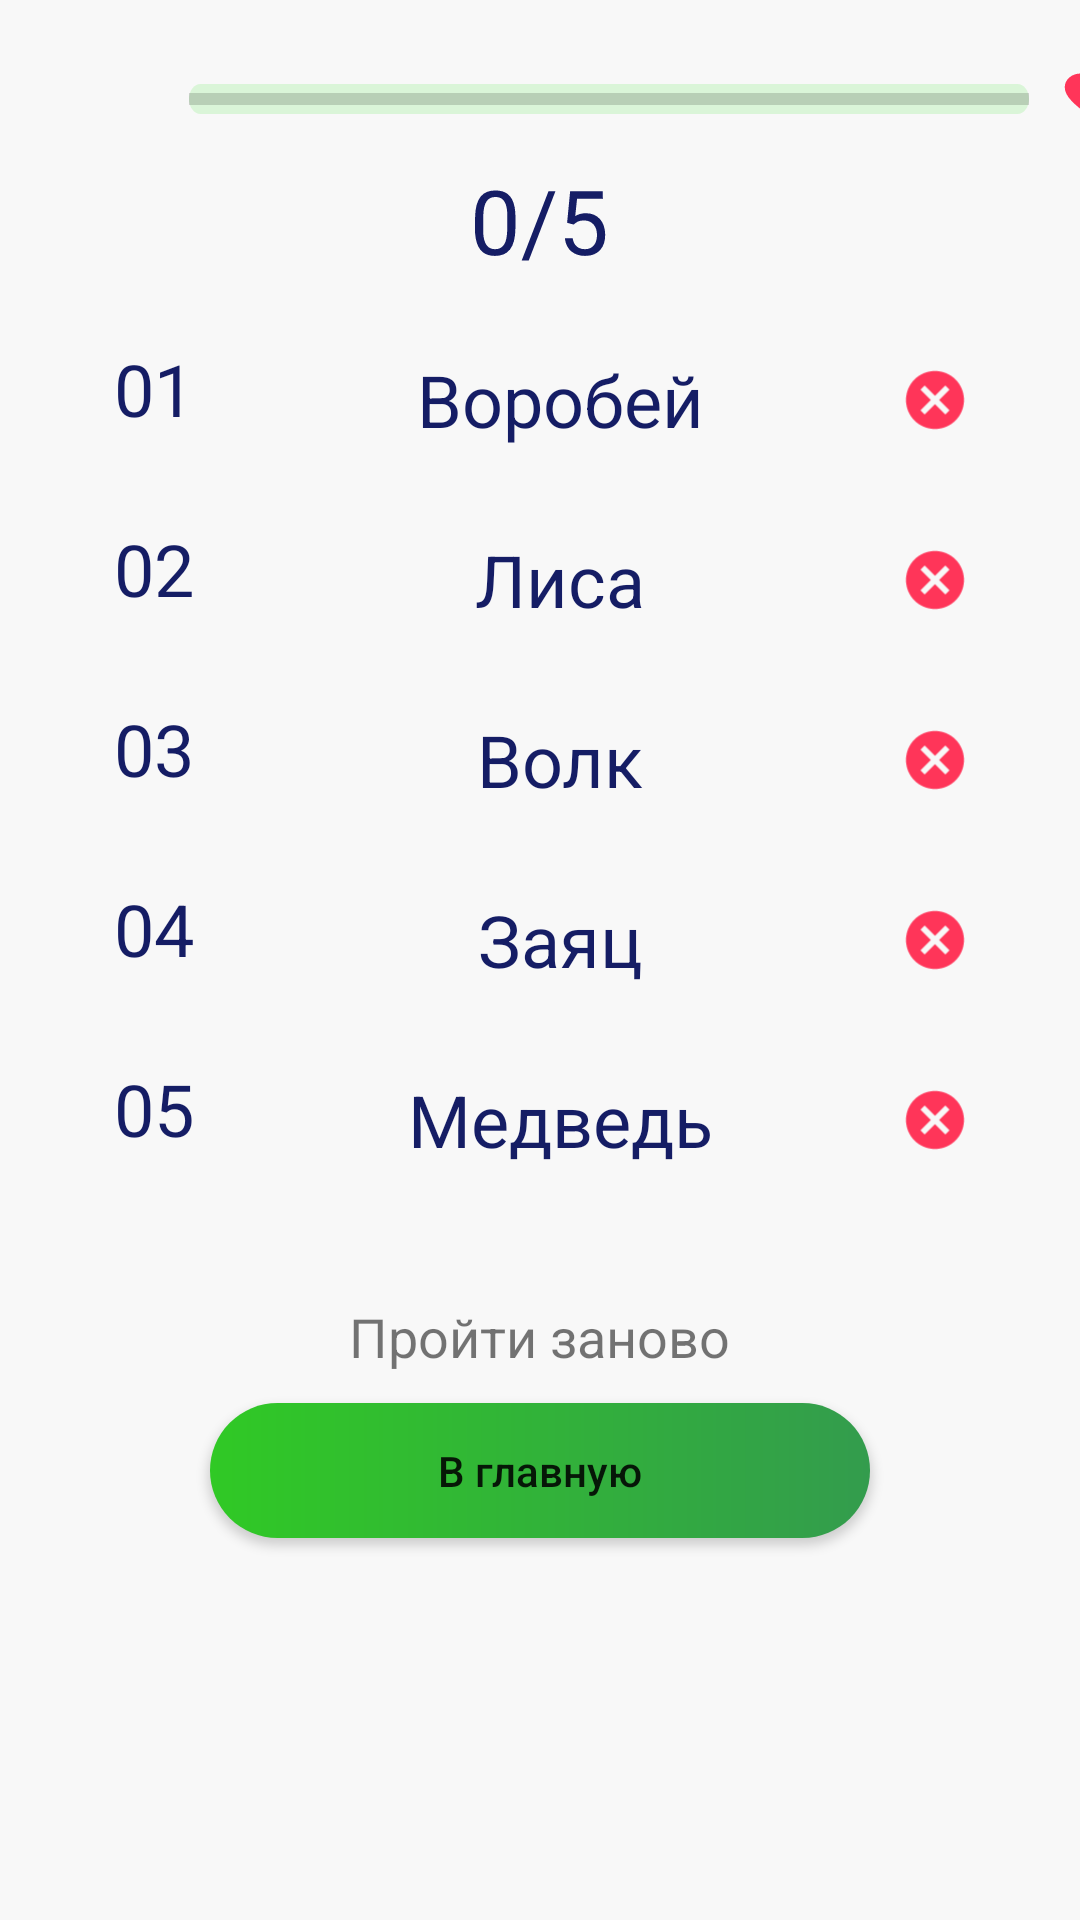

Where to tap for icons on this 1080px×1920px app screen, as (x=x, y=y):
error: (x=935, y=400), (x=935, y=580), (x=935, y=760), (x=935, y=940), (x=935, y=1120)
